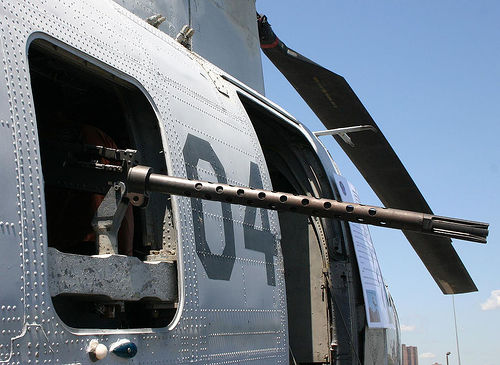rifle: (75, 122, 486, 284)
